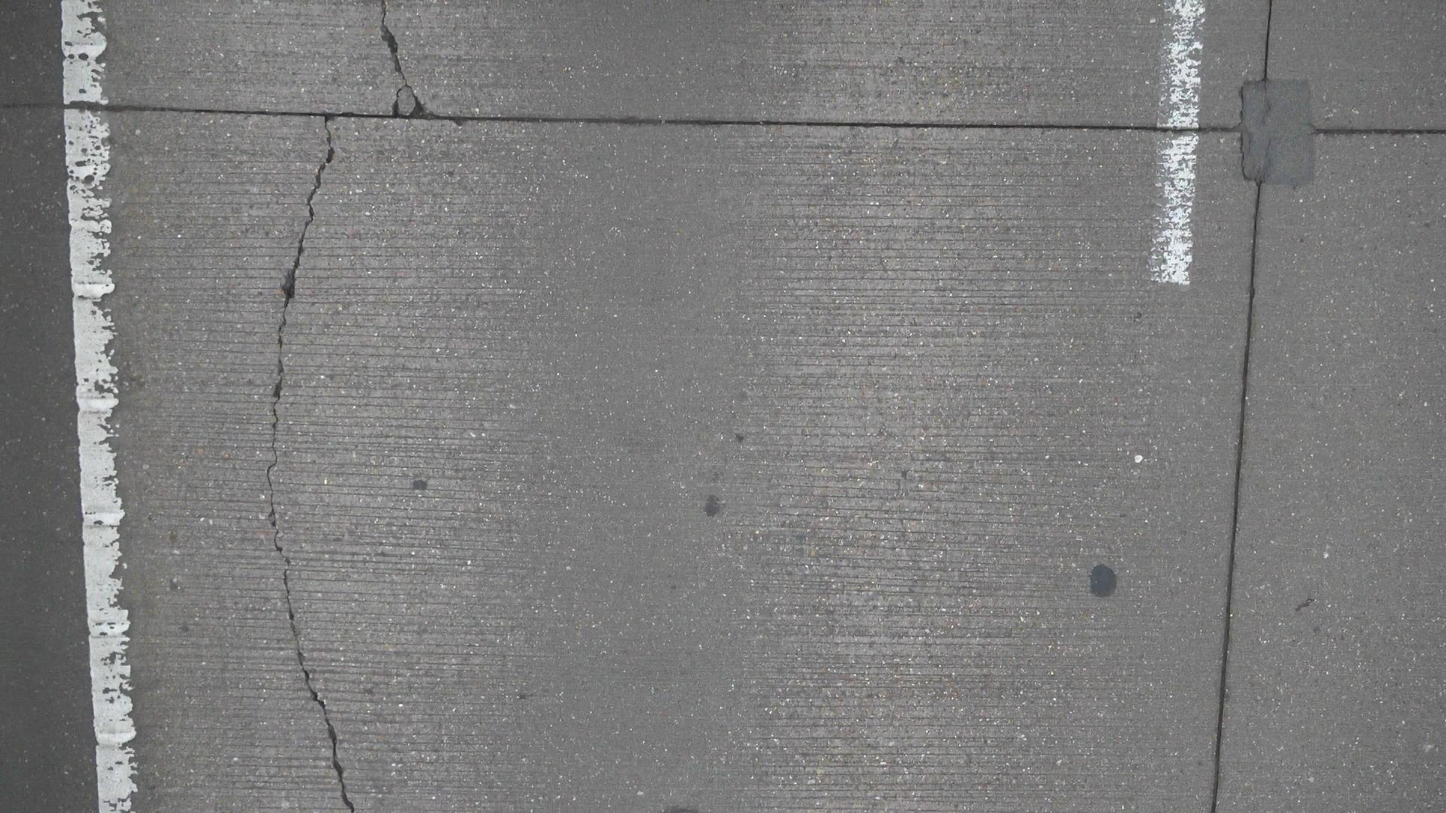GRIETA: (266, 117, 355, 812), (61, 102, 1240, 133), (1210, 181, 1262, 812), (379, 0, 424, 117), (1310, 124, 1445, 136), (1260, 0, 1274, 81)
PARCHE: (1241, 79, 1314, 187)
